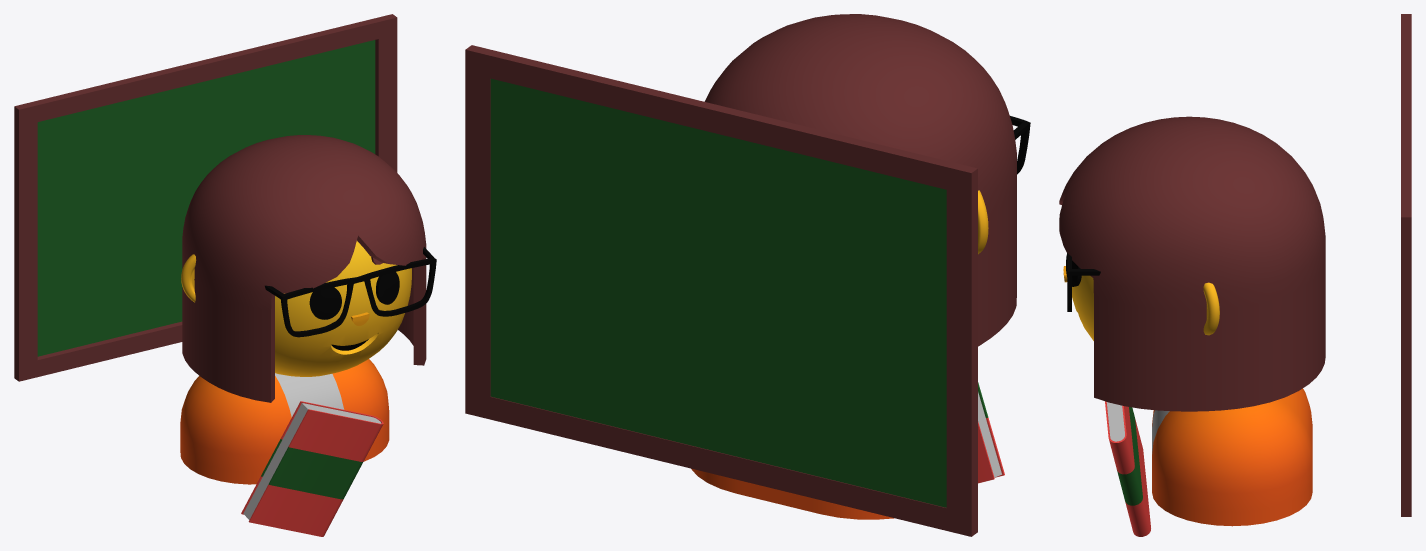
The model's file is woman_teacher.glb.
3 views of the same model, side by side, from view 1: azimuth 30°, elevation 25°; view 2: azimuth 150°, elevation 25°; view 3: azimuth 270°, elevation 25° (orthographic). The views are drawn at different scales.
Visible parts, largest first — view 1: Plane.037, Roundcube.084, Sphere.042, Cube.1055, Roundcube.083, Plane.036, Circle.573, Cylinder.075; view 2: Plane.037, Roundcube.084, Sphere.042, Cube.1055; view 3: Roundcube.084, Sphere.042, Plane.037, Cube.1055, Roundcube.083, Cylinder.075, Plane.036.
Boxes of the visible parts, x1=… form: Plane.037: x1=14, y1=14, x2=397, y2=381; Roundcube.084: x1=182, y1=135, x2=426, y2=402; Sphere.042: x1=180, y1=359, x2=389, y2=484; Cube.1055: x1=241, y1=401, x2=383, y2=536; Roundcube.083: x1=275, y1=241, x2=411, y2=376; Plane.036: x1=265, y1=247, x2=436, y2=337; Circle.573: x1=309, y1=272, x2=399, y2=319; Cylinder.075: x1=181, y1=254, x2=196, y2=302; Plane.037: x1=465, y1=45, x2=977, y2=536; Roundcube.084: x1=704, y1=14, x2=1016, y2=346; Sphere.042: x1=691, y1=468, x2=893, y2=519; Cube.1055: x1=978, y1=382, x2=1004, y2=483; Roundcube.084: x1=1059, y1=116, x2=1325, y2=411; Sphere.042: x1=1152, y1=388, x2=1312, y2=526; Plane.037: x1=1401, y1=14, x2=1411, y2=516; Cube.1055: x1=1105, y1=401, x2=1150, y2=536; Roundcube.083: x1=1072, y1=275, x2=1093, y2=340; Cylinder.075: x1=1203, y1=282, x2=1219, y2=335; Plane.036: x1=1067, y1=253, x2=1100, y2=311.
Size of the model in its own units: 2.99 by 2.9 by 2.19.
1 material, 1 textured.
